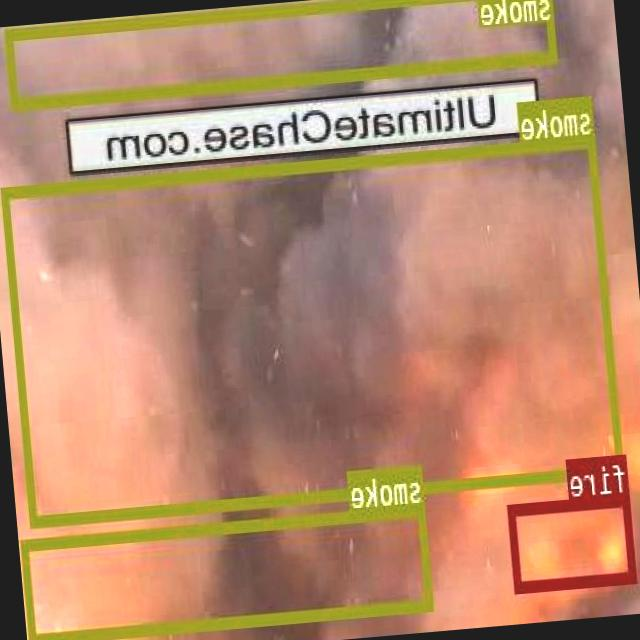fire: (508, 492, 636, 590)
smoke: (2, 134, 624, 526), (6, 0, 559, 106), (21, 503, 434, 640)
